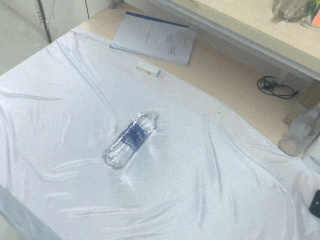bottle: (102, 112, 158, 170), (278, 102, 320, 158)
